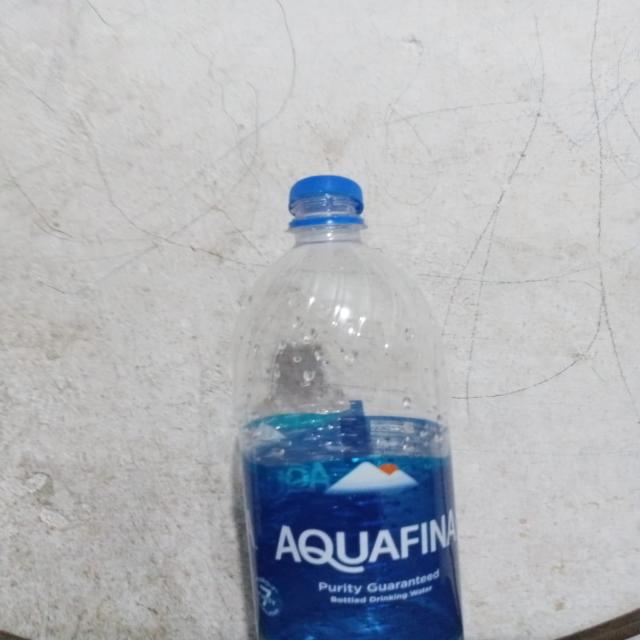bottle: (222, 165, 467, 640)
cap: (276, 172, 378, 236)
label: (223, 448, 462, 638)
